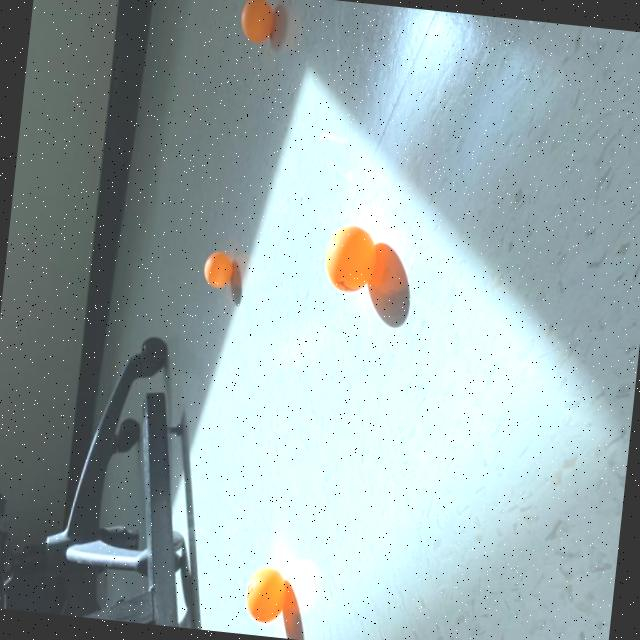ping-pong-ball: (317, 219, 379, 300), (239, 562, 289, 626), (232, 0, 277, 47), (199, 248, 233, 294)
